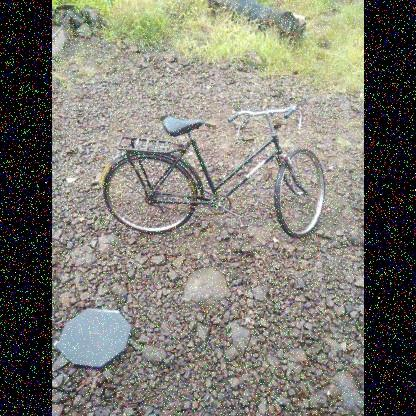Bicycle: (91, 73, 338, 270)
